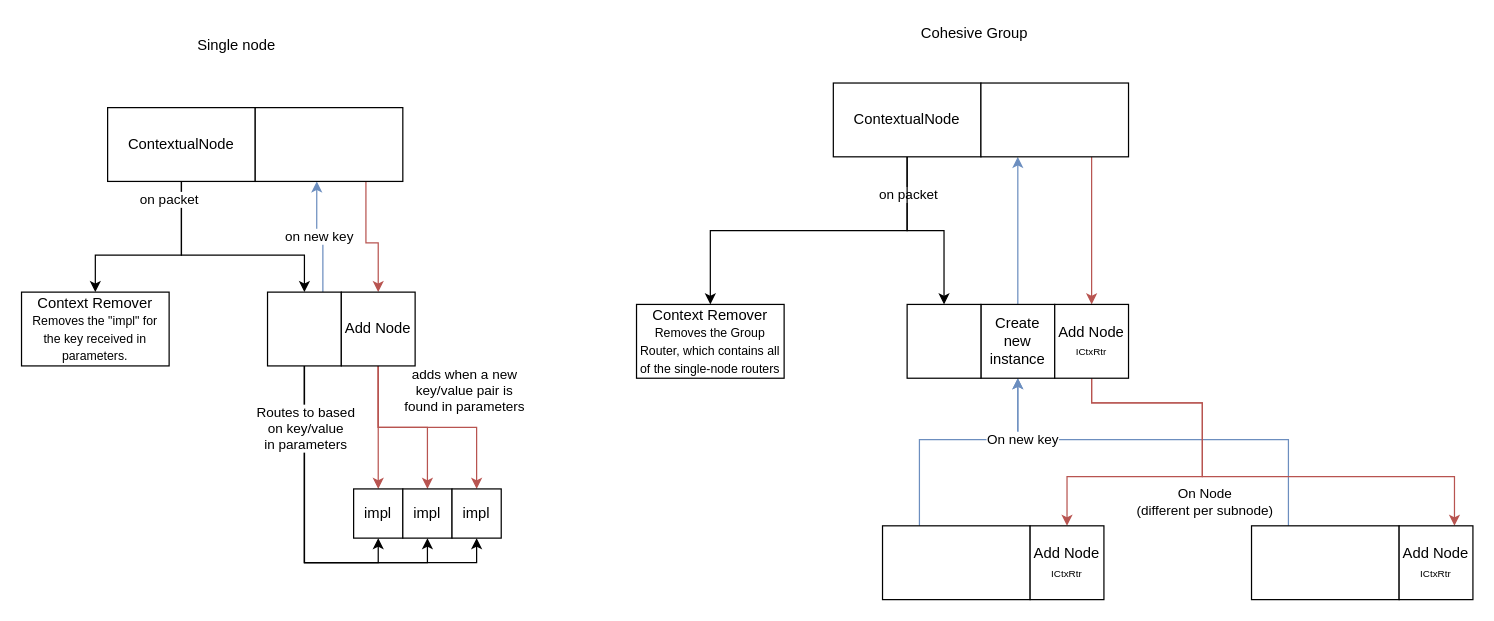
This 1494x621 diagram has some shape labels left out. Each missing label, with the centre of its shape:
"Cohesive Group Router" goes at [943,340].
"Create new instance (cb added to each router node)" goes at [328,143].
"Create new instance (cb added to each router node) as IRouterInstanceCreator" goes at [1054,119].
"Router Node" goes at [303,328].
"Single Node Router (Group index 0)" goes at [955,562].
"Single Node Router (Group index N)" goes at [1324,562].
